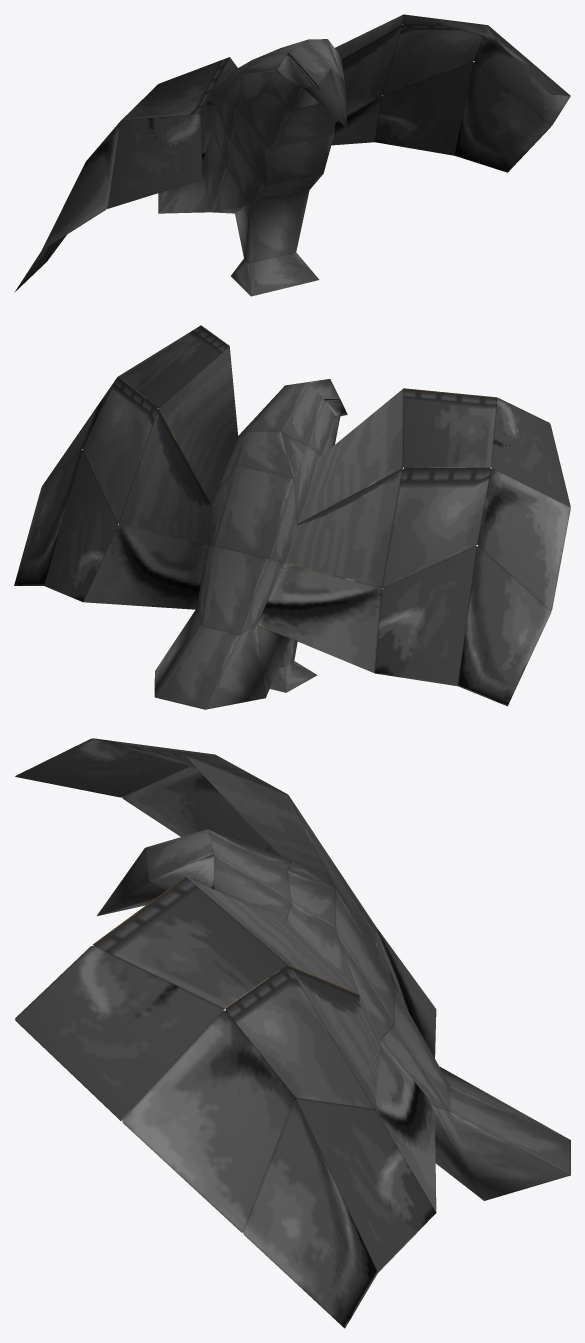
3 views of the same model, one above another, from view 1: azimuth 30°, elevation 25°; view 2: azimuth 150°, elevation 25°; view 3: azimuth 270°, elevation 25° (orthographic). The views are drawn at different scales.
Parts seen in each view (by area): view 1: T1L4M001_18; view 2: T1L4M001_18; view 3: T1L4M001_18.
Part boxes in pixels (x1,y1,x2,y2): T1L4M001_18: [14, 14, 570, 296]; T1L4M001_18: [14, 325, 570, 709]; T1L4M001_18: [15, 738, 570, 1328].
Size of the model in its own units: 2.27 by 1.17 by 1.5.
